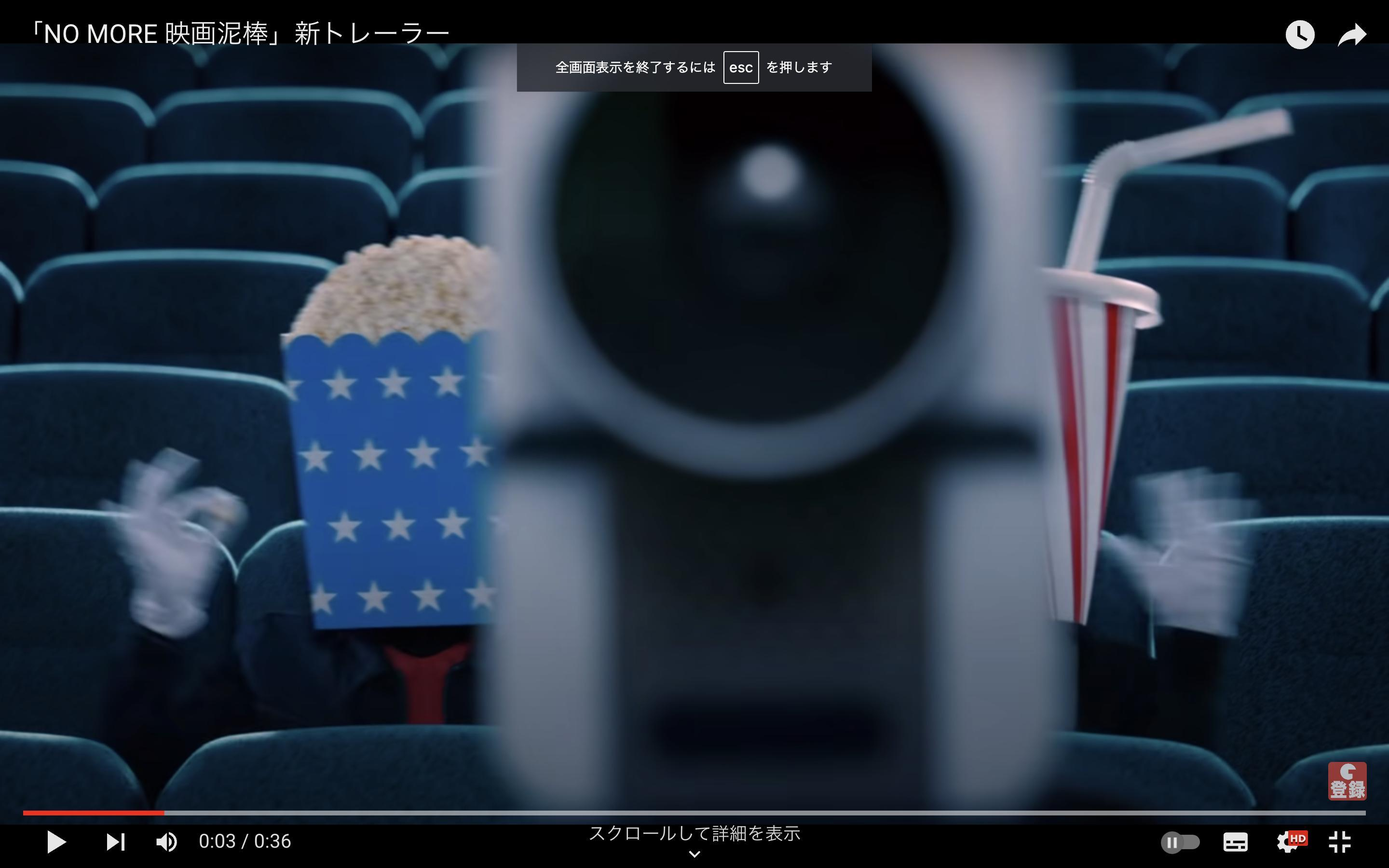no more kid: (458, 34, 1062, 817)
